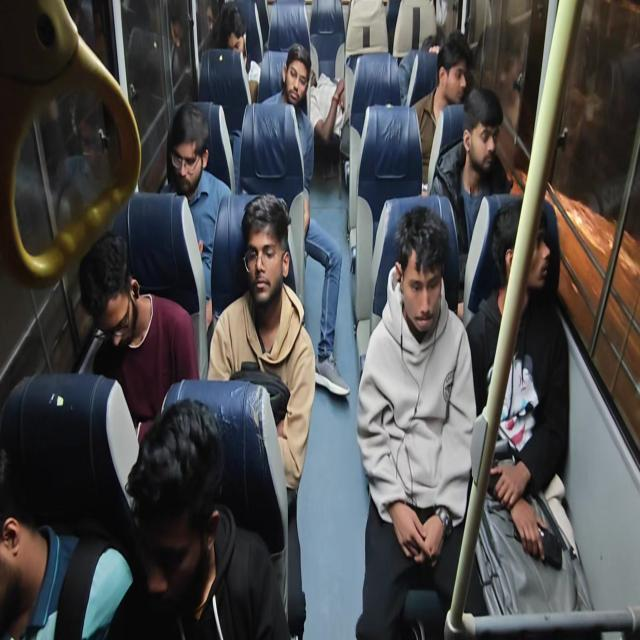person: (130, 388, 240, 640), (0, 418, 118, 640), (84, 202, 192, 403), (371, 220, 461, 346), (160, 93, 235, 232), (505, 171, 568, 332), (243, 238, 301, 348), (437, 41, 492, 157), (301, 36, 346, 171), (477, 96, 510, 176), (275, 34, 310, 100), (220, 2, 253, 66), (410, 34, 438, 77)
